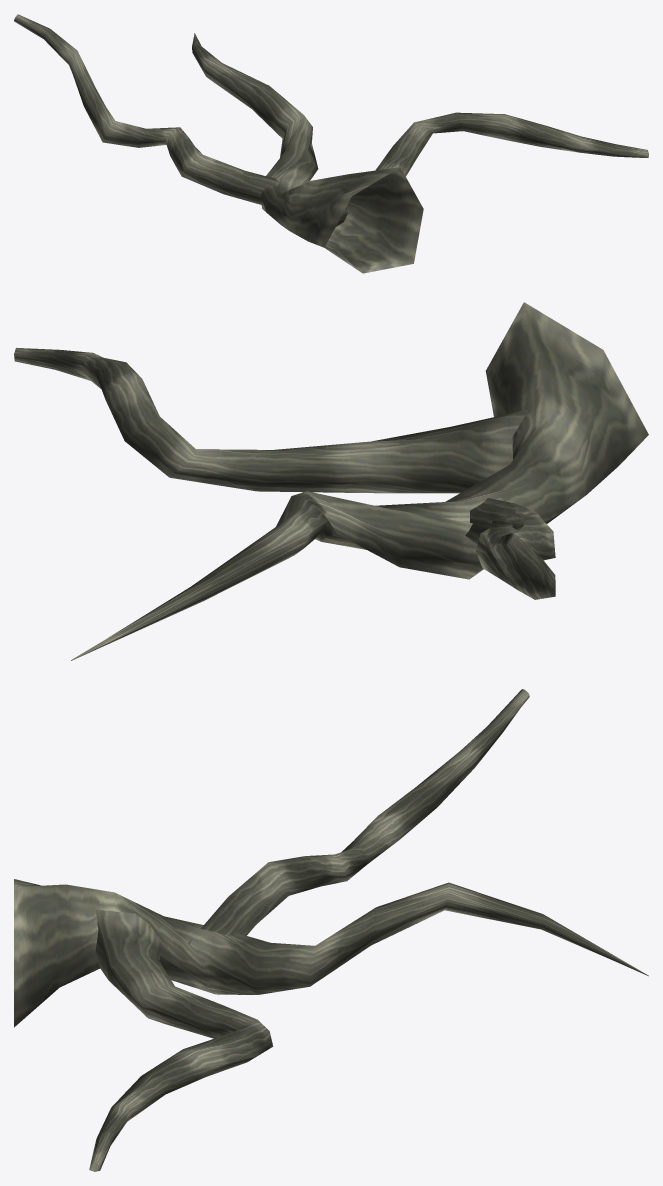
The model's file is INST_SWORDLIGHT_ROOTB.fbx.
3 views of the same model, one above another, from view 1: azimuth 30°, elevation 25°; view 2: azimuth 150°, elevation 25°; view 3: azimuth 270°, elevation 25° (orthographic). The views are drawn at different scales.
Visible parts, largest first — view 1: INST_SWORDLIGHT_ROOTB; view 2: INST_SWORDLIGHT_ROOTB; view 3: INST_SWORDLIGHT_ROOTB.
Part boxes in pixels (left/top/right/bottom): INST_SWORDLIGHT_ROOTB: left=14, top=14, right=648, bottom=273; INST_SWORDLIGHT_ROOTB: left=14, top=302, right=648, bottom=660; INST_SWORDLIGHT_ROOTB: left=14, top=689, right=648, bottom=1171.
Bounding box in the file's own units: 64743 × 20930 × 57240.
1 material, 1 textured.
